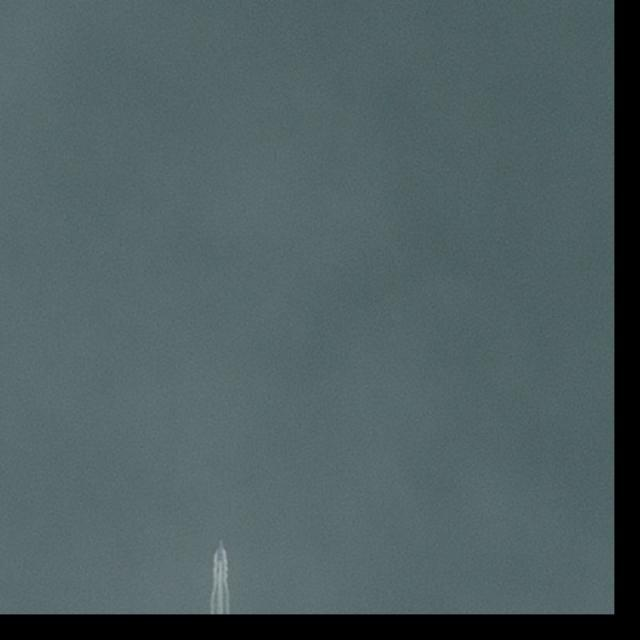ship: (218, 538, 223, 566)
